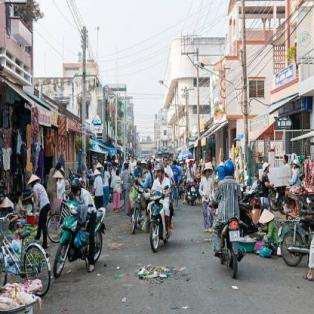Motocicleta: (51, 191, 104, 278), (212, 211, 245, 285), (143, 186, 171, 268)
